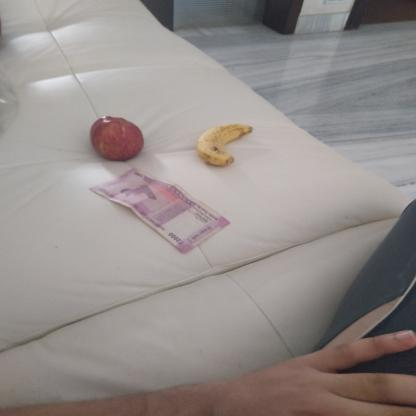New2000Back: (97, 170, 219, 250)
